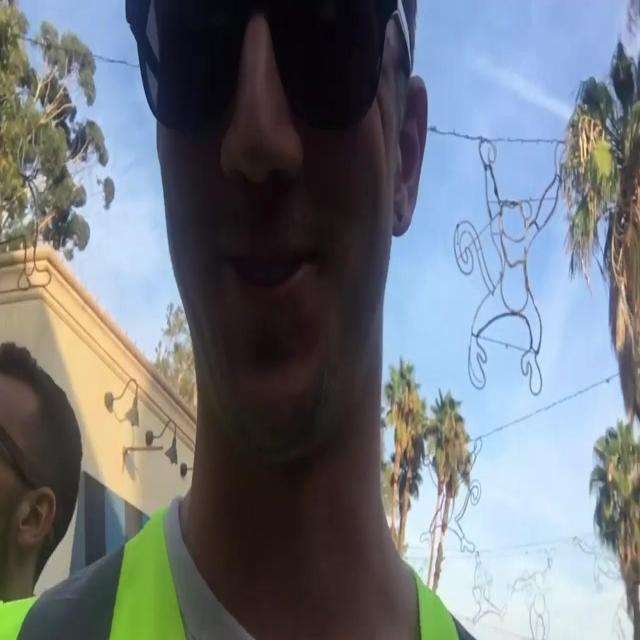Vest: (1, 500, 487, 639)
